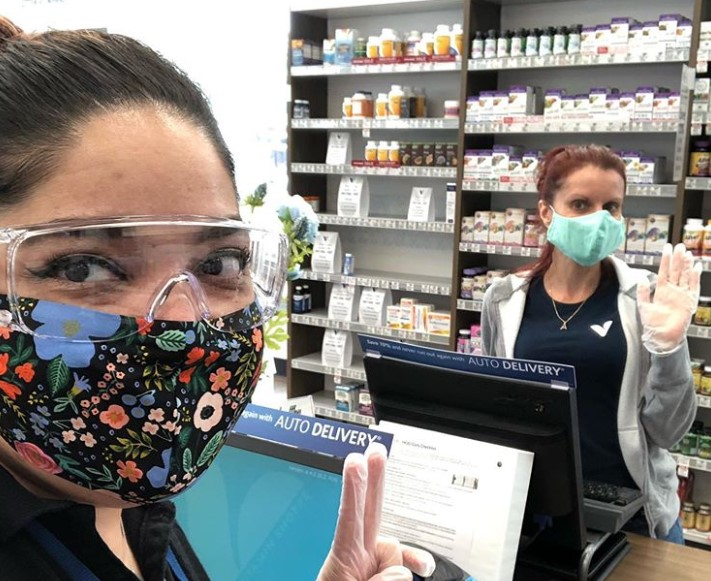face_with_mask: (0, 30, 286, 510), (538, 150, 624, 266)
